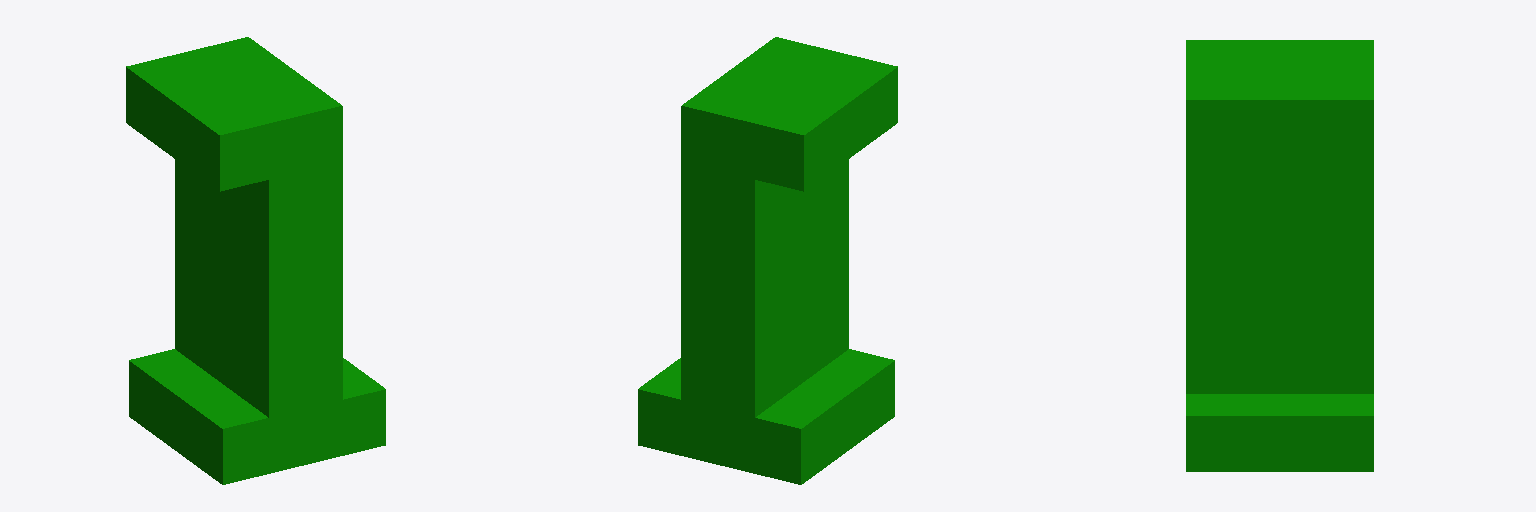
The model's file is One.obj.
The picture shows the model from 3 angles: view 1: azimuth 30°, elevation 25°; view 2: azimuth 150°, elevation 25°; view 3: azimuth 270°, elevation 25°; orthographic projection.
Parts seen in each view (by area): view 1: Text; view 2: Text; view 3: Text.
Part boxes in pixels (left/top/right/bottom): Text: left=126, top=37, right=385, bottom=484; Text: left=638, top=37, right=897, bottom=484; Text: left=1186, top=40, right=1373, bottom=471.
Size of the model in its own units: 0.278 by 0.5589 by 0.272.